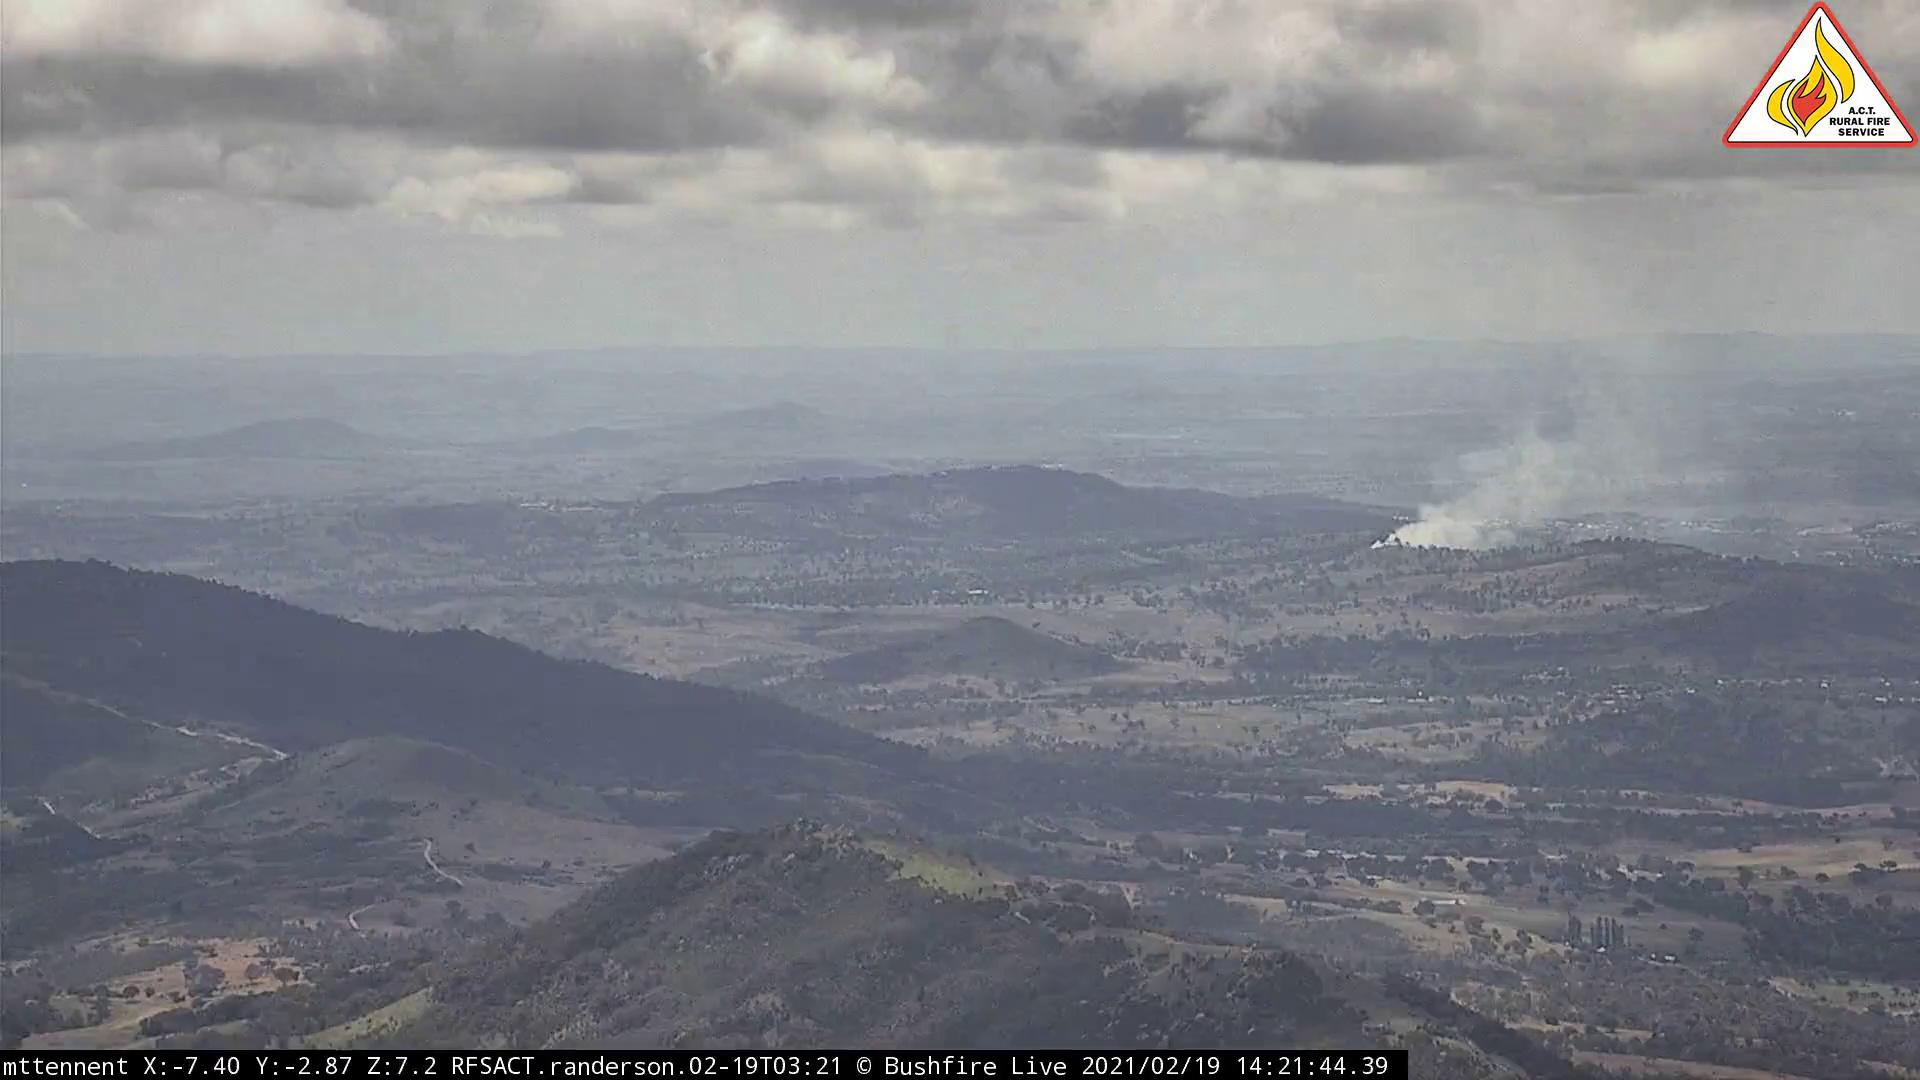instance_salient_object: (1342, 382, 1706, 564)
